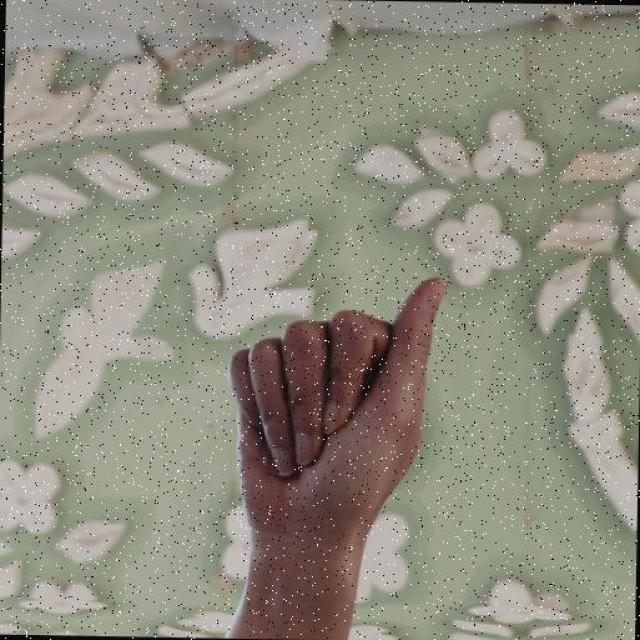A: (221, 269, 451, 536)
